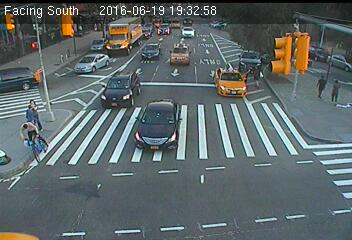neg: (5, 120, 44, 172), (56, 47, 75, 73), (5, 36, 22, 58), (42, 36, 57, 56)
pos: (310, 71, 332, 100), (326, 77, 345, 102)
